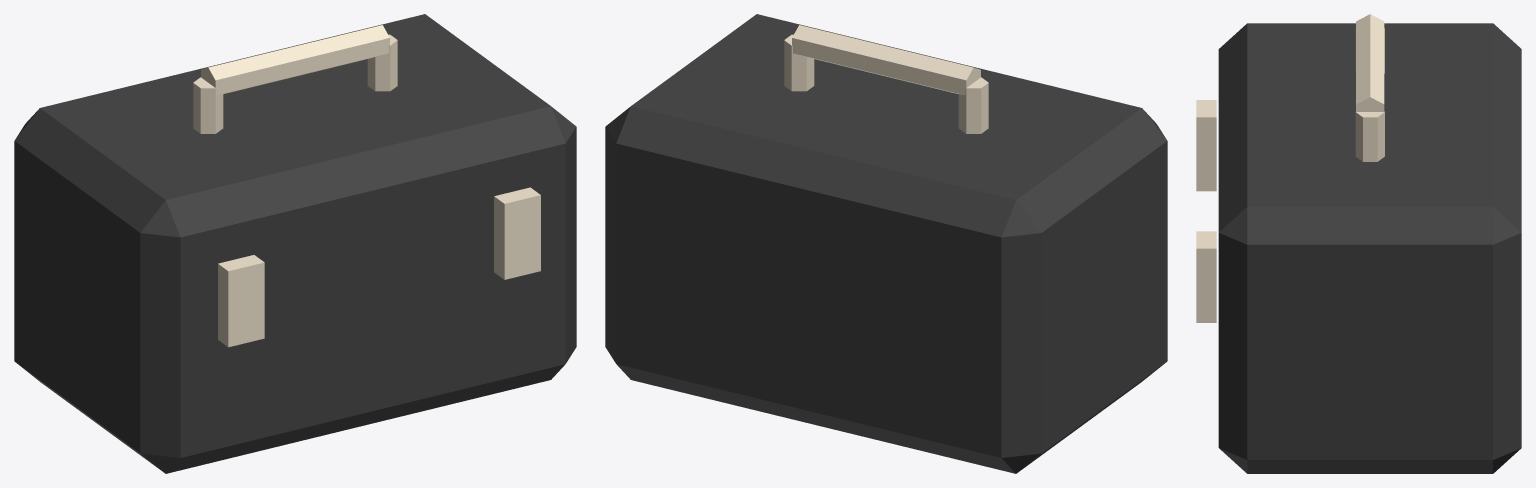
The picture shows the model from 3 angles, left to right: view 1: azimuth 30°, elevation 25°; view 2: azimuth 150°, elevation 25°; view 3: azimuth 270°, elevation 25°; orthographic projection. The views are drawn at different scales.
Parts seen in each view (by area): view 1: Case, Handle, Buckle.001, Buckle, Handle post, Handle post.001; view 2: Case, Handle, Handle post, Handle post.001; view 3: Case, Handle, Buckle, Buckle.001, Handle post.001.
Boxes of the visible parts, left/top/right/bottom form: Case: left=14, top=14, right=576, bottom=473; Handle: left=201, top=25, right=389, bottom=95; Buckle.001: left=494, top=187, right=540, bottom=279; Buckle: left=218, top=255, right=264, bottom=347; Handle post: left=193, top=77, right=223, bottom=133; Handle post.001: left=367, top=34, right=397, bottom=91; Case: left=605, top=14, right=1167, bottom=473; Handle: left=792, top=25, right=980, bottom=95; Handle post: left=958, top=77, right=988, bottom=133; Handle post.001: left=784, top=34, right=814, bottom=91; Case: left=1218, top=23, right=1521, bottom=473; Handle: left=1356, top=14, right=1384, bottom=111; Buckle: left=1196, top=100, right=1216, bottom=191; Buckle.001: left=1196, top=231, right=1216, bottom=322; Handle post.001: left=1355, top=111, right=1384, bottom=161.
Bounding box in the file's own units: 60 × 44 × 39.75.
